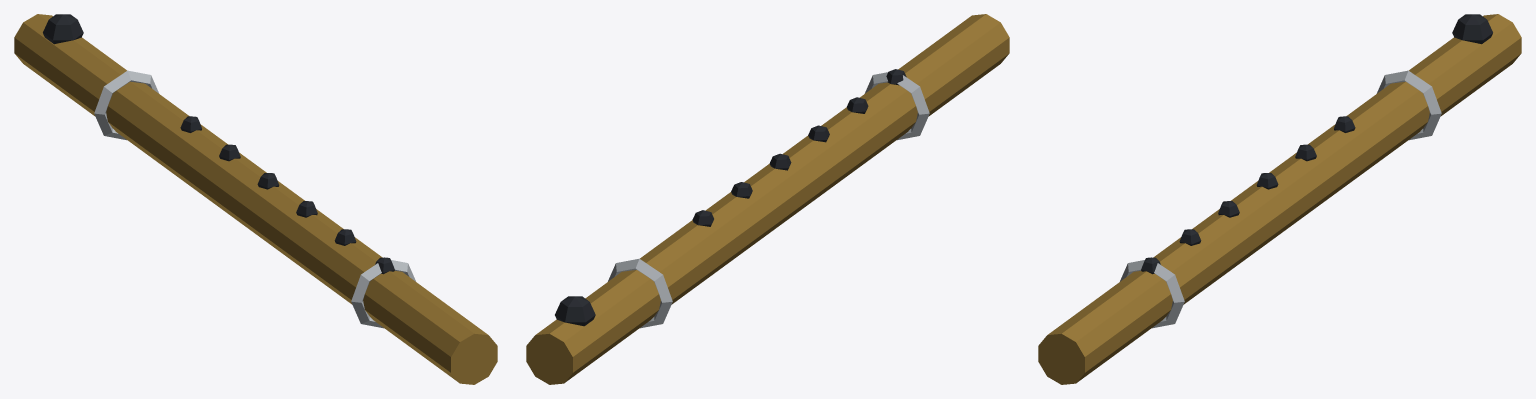
Rendered from flute.glb.
3 renders of one model, left to right at view 1: azimuth 30°, elevation 25°; view 2: azimuth 150°, elevation 25°; view 3: azimuth 330°, elevation 25°, orthographic.
Visible parts, largest first — view 1: m; view 2: m; view 3: m.
Boxes of the visible parts, box(x1,y1,x2,y2) form: m: box(14, 14, 497, 384); m: box(526, 14, 1009, 384); m: box(1038, 14, 1521, 384).
Size of the model in its own units: 0.03 by 0.034 by 0.34.
